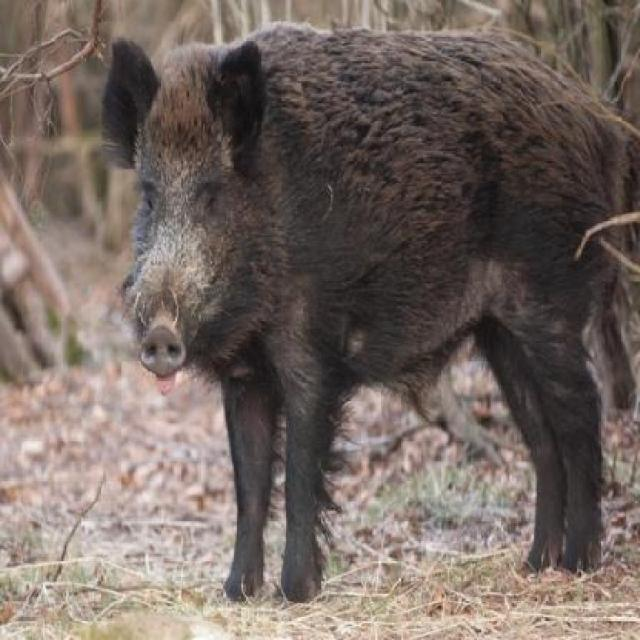wildboar: (94, 21, 640, 605)
